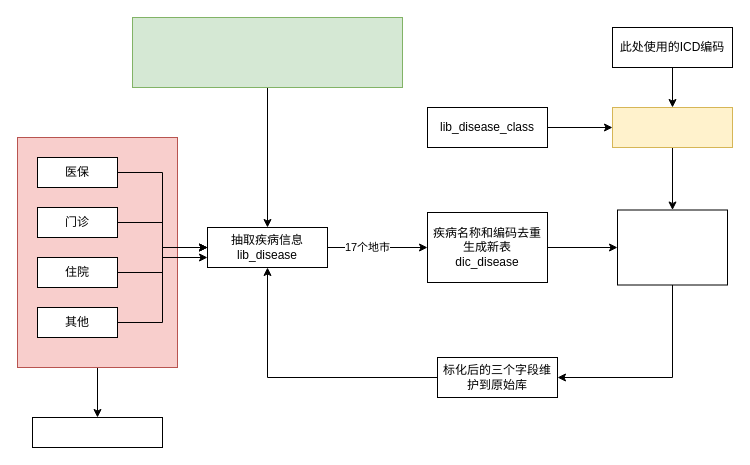
Some shapes in this 750 by 465 pixel diagram are drawn without their labels. Here are the shapes that lost their labels. From the top down, the centre of each, then its label:
(267,52): 由于安全考虑对stcode\stname进行了加密处理,heze.Encrypt_Des(ST_CODE,密码)
(672,127): 根据自定义的疾病分类表标化JBCLASS
(672,247): 通过各种手段标化其中的两个字段 STCODE\STNAME
(97,432): ILLSQL
